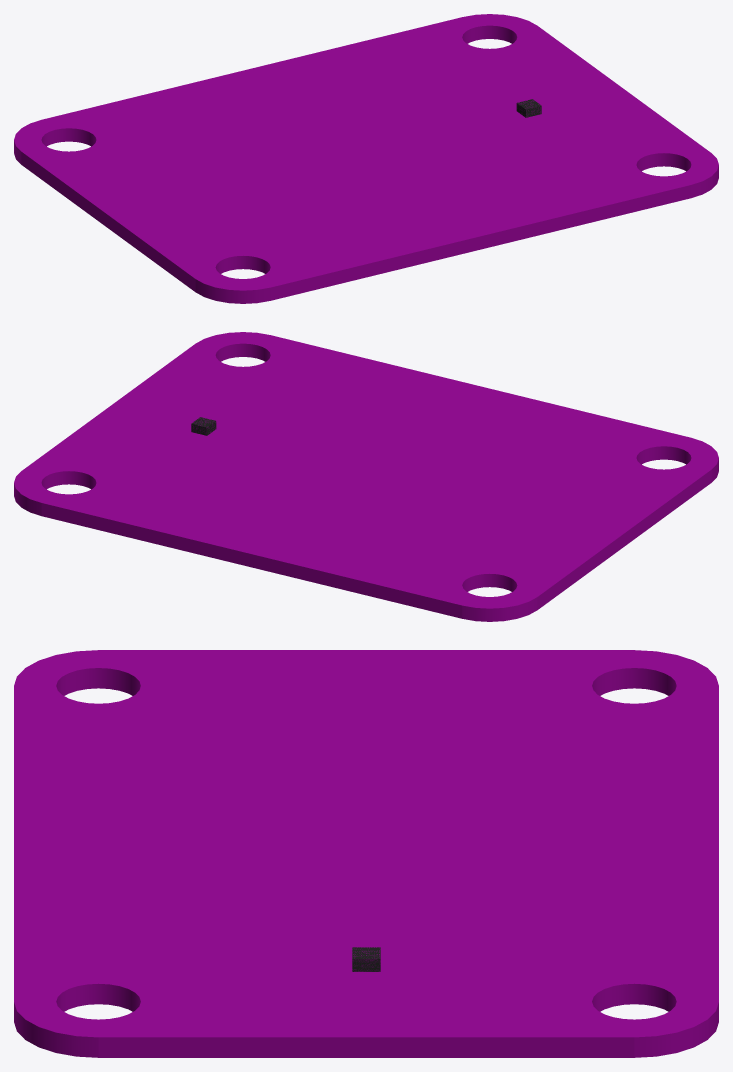
File: fximu3e.dae
The picture shows the model from 3 angles, top to bottom: view 1: azimuth 30°, elevation 25°; view 2: azimuth 150°, elevation 25°; view 3: azimuth 270°, elevation 25°; orthographic projection. The views are drawn at different scales.
Visible parts, largest first — view 1: Component_49 (×5); view 2: Component_49 (×5); view 3: Component_49 (×6).
Part boxes in pixels (x1,y1,x2,y2): Component_49 (×5): (14, 14, 718, 303); Component_49 (×5): (14, 332, 718, 621); Component_49 (×6): (14, 650, 718, 1057).
Bounding box in the file's own units: 2.56 × 1.97 × 0.1024.
